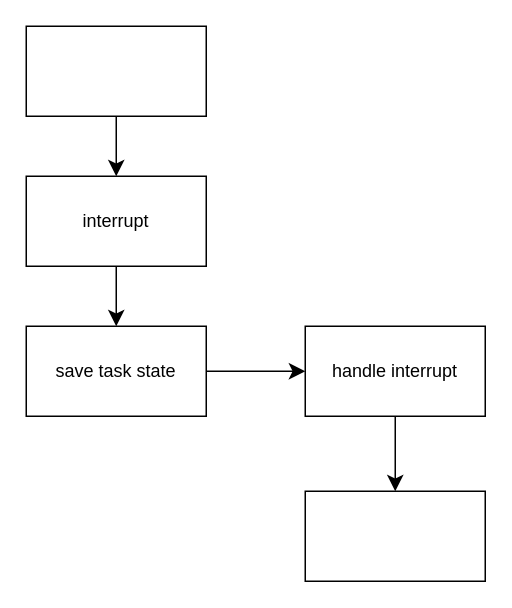
Image size: 512x608. Some labels were removed from this diagram. The centre of each missing label's shape, as x and y in pixels:
"load task state and continue" belongs at point 394,535.
"task" belongs at point 115,70.
